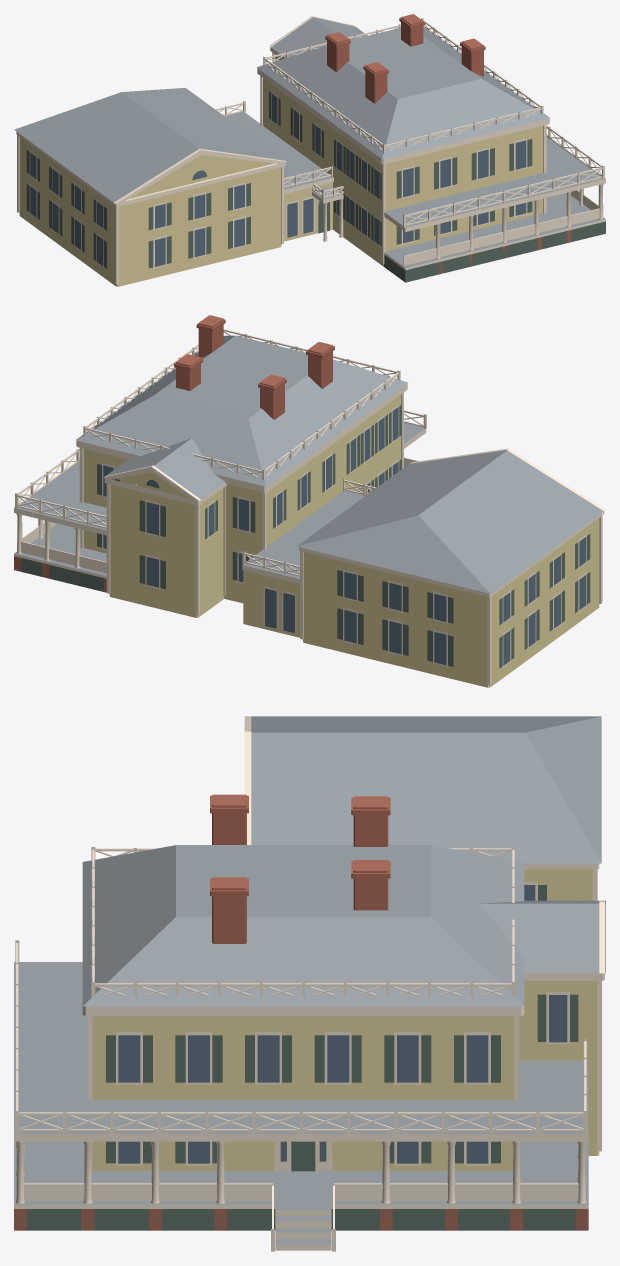
Rendered from nyc-gracie-mansion.glb.
3 renders of one model, top to bottom at view 1: azimuth 30°, elevation 25°; view 2: azimuth 150°, elevation 25°; view 3: azimuth 270°, elevation 25°, orthographic. The views are drawn at different scales.
Parts seen in each view (by area): view 1: Gracie Mansion; view 2: Gracie Mansion; view 3: Gracie Mansion.
Boxes of the visible parts, x1=… form: Gracie Mansion: x1=14, y1=14, x2=605, y2=286; Gracie Mansion: x1=14, y1=315, x2=605, y2=687; Gracie Mansion: x1=14, y1=716, x2=605, y2=1251.
Bounding box in the file's own units: 41.89 × 14.5 × 27.2.
